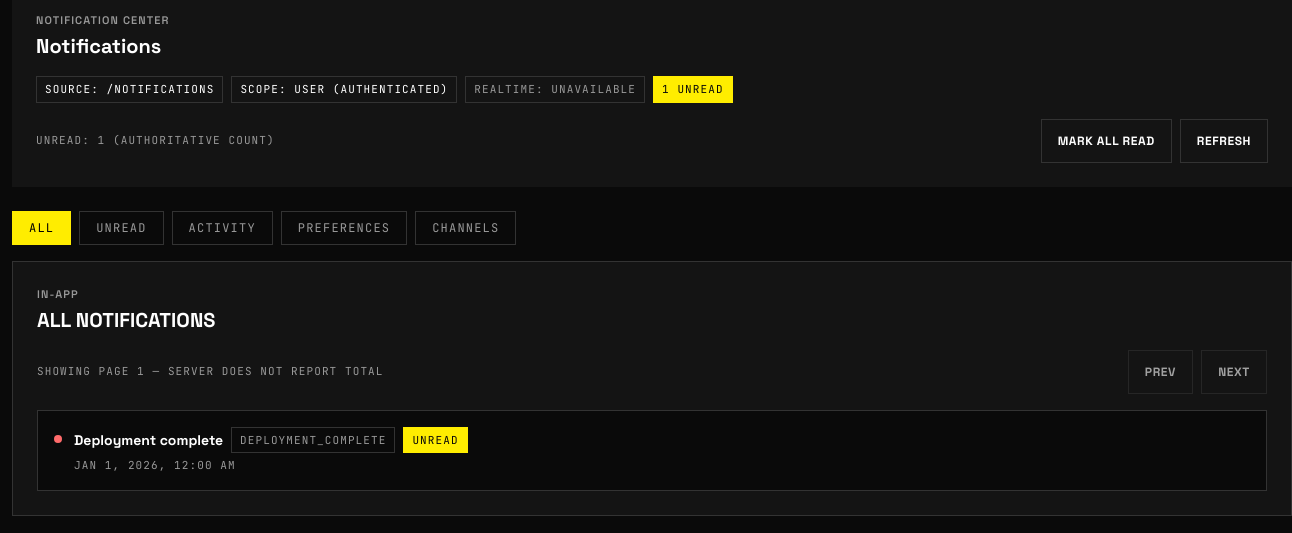
Scenario: Notification Center — read-only (C1) › renders activity from the knowledge audit with explicit scope labels
Check: the text "Deployment complete" is shown, box [74,430,223,450]
Click the tab "ACTIVITY" at [222, 228], box [172,210,273,244]
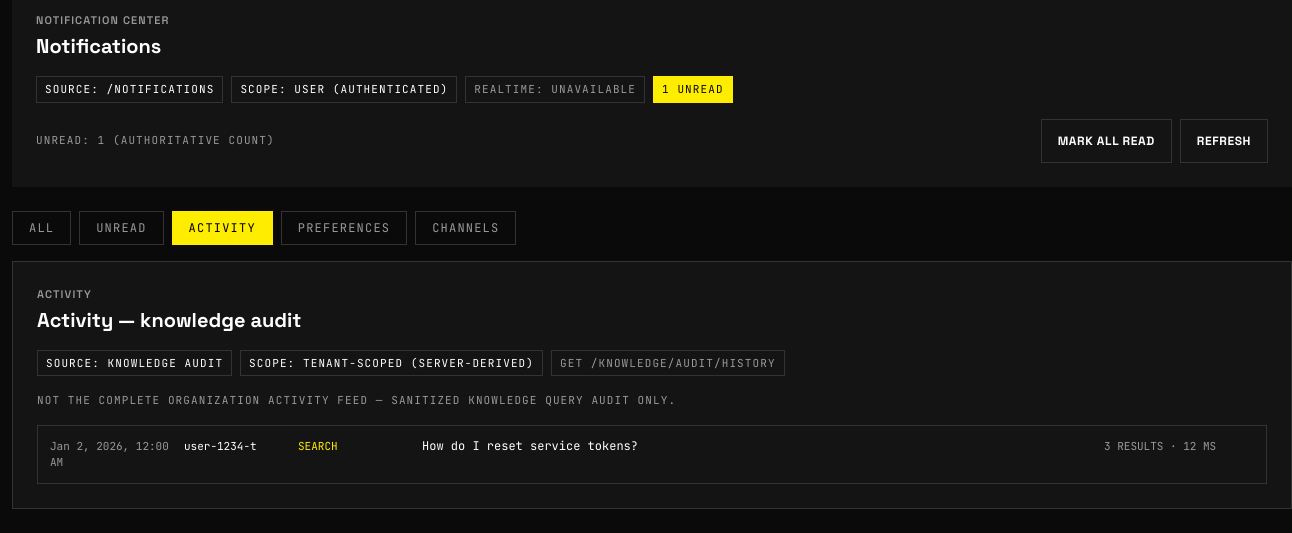
Check: the text "SOURCE: KNOWLEDGE AUDIT" is shown, box [37,350,232,376]
Check: the text "SCOPE: TENANT-SCOPED (SERVER-DERIVED)" is shown, box [240,350,543,376]
Check: the text "How do I reset service tokens?" is shown, box [422,438,638,454]
